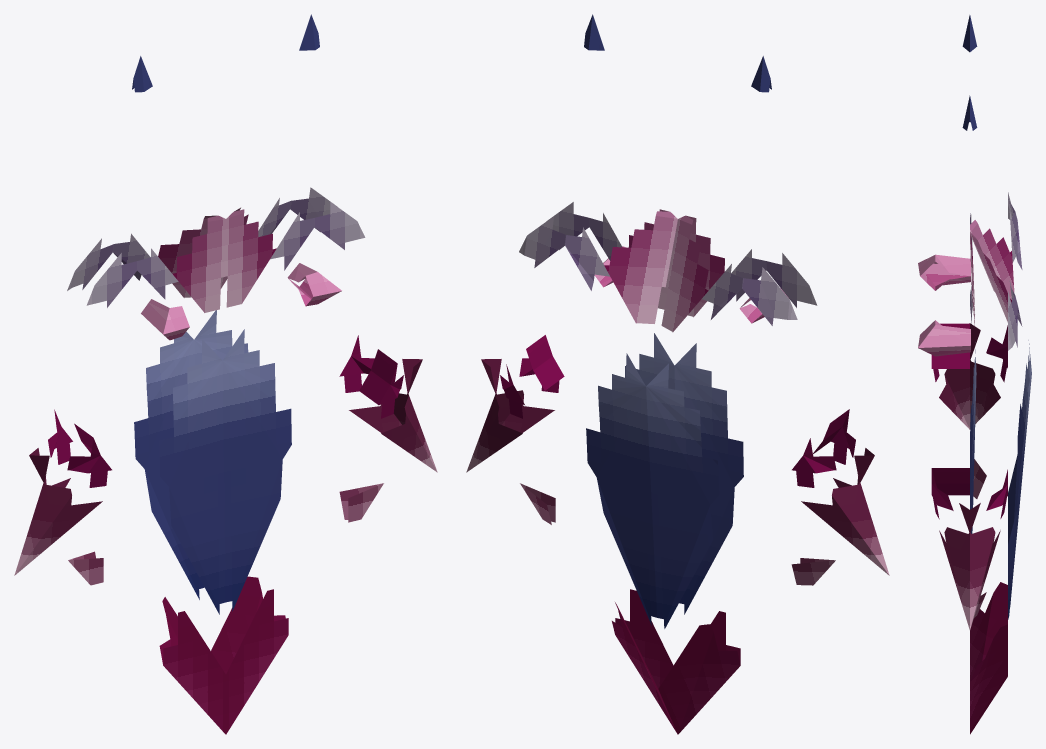
Rendered from productone.obj.
3 renders of one model, left to right at view 1: azimuth 30°, elevation 25°; view 2: azimuth 150°, elevation 25°; view 3: azimuth 270°, elevation 25°, orthographic. The views are drawn at different scales.
Bounding box in the file's own units: 49.81 × 78.67 × 11.94.
